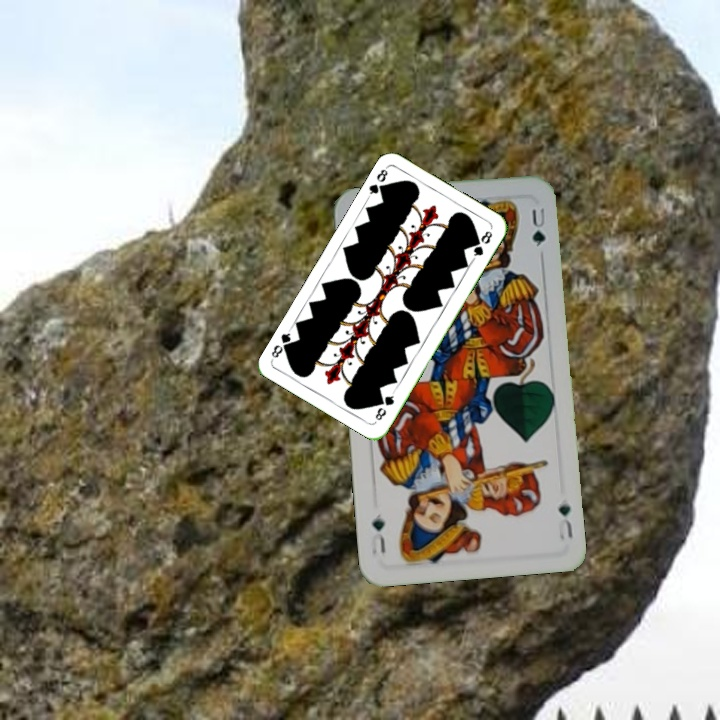G8: (364, 163, 390, 200), (371, 388, 397, 423)
GU: (554, 499, 575, 543)
